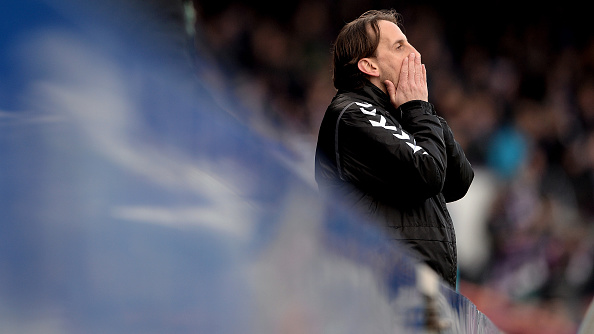em pe: (297, 7, 492, 284)
